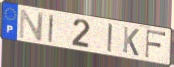2: (71, 18, 93, 50)
F: (144, 29, 167, 60)
I: (106, 22, 114, 54), (47, 13, 55, 44)
K: (122, 25, 141, 58)
N: (18, 8, 46, 42)
